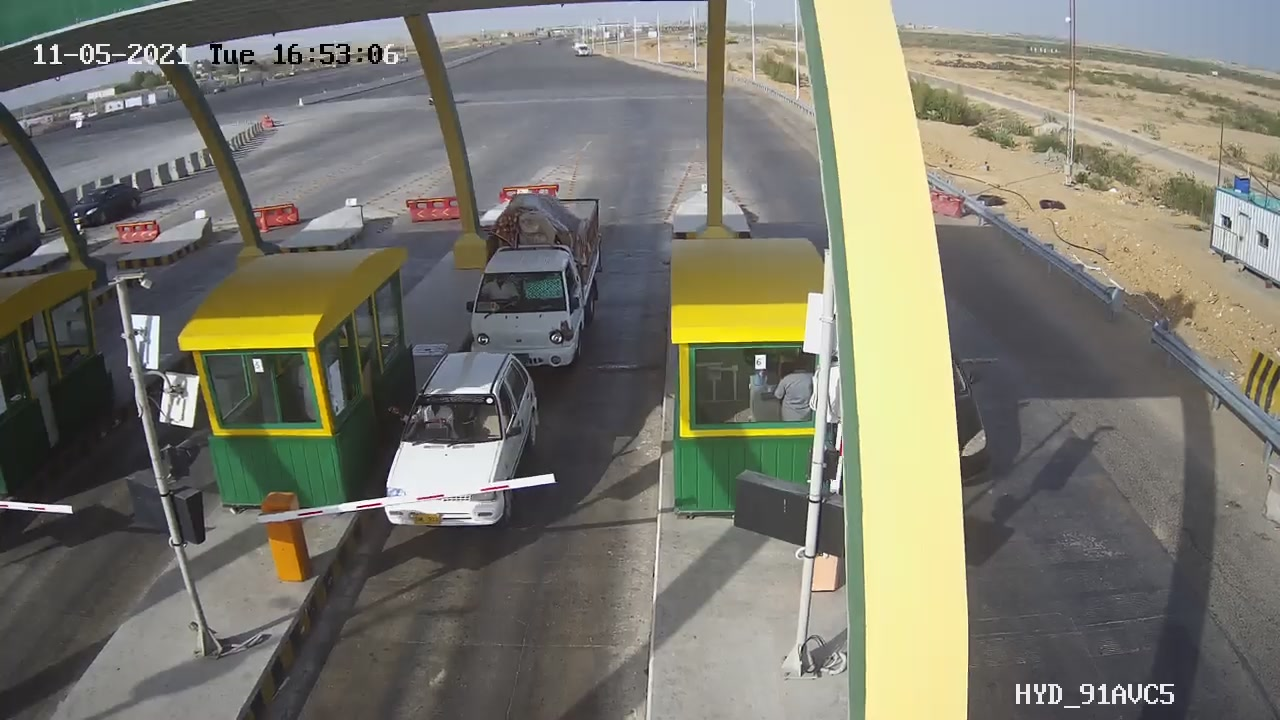F1: (371, 342, 553, 542)
F2: (473, 183, 611, 370)
